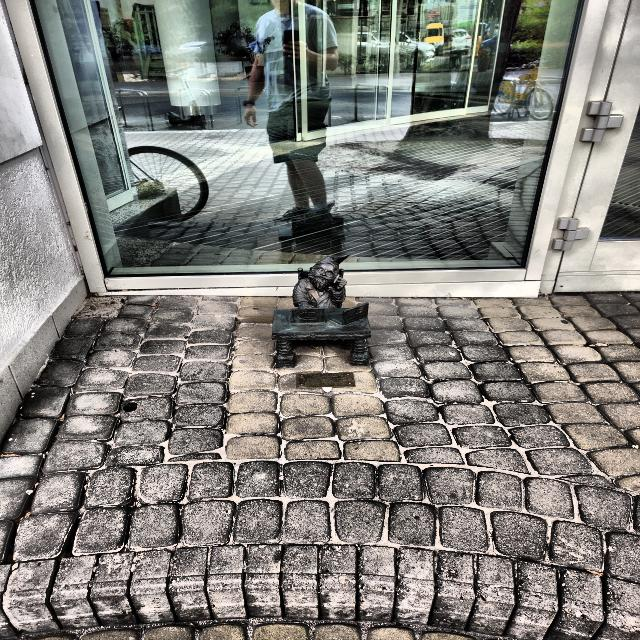WIZek: (272, 256, 370, 368)
